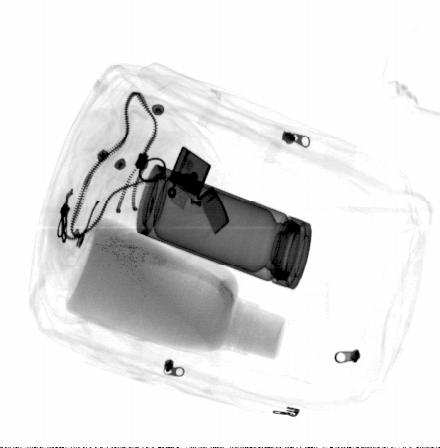Lighter: (167, 146, 230, 235)
